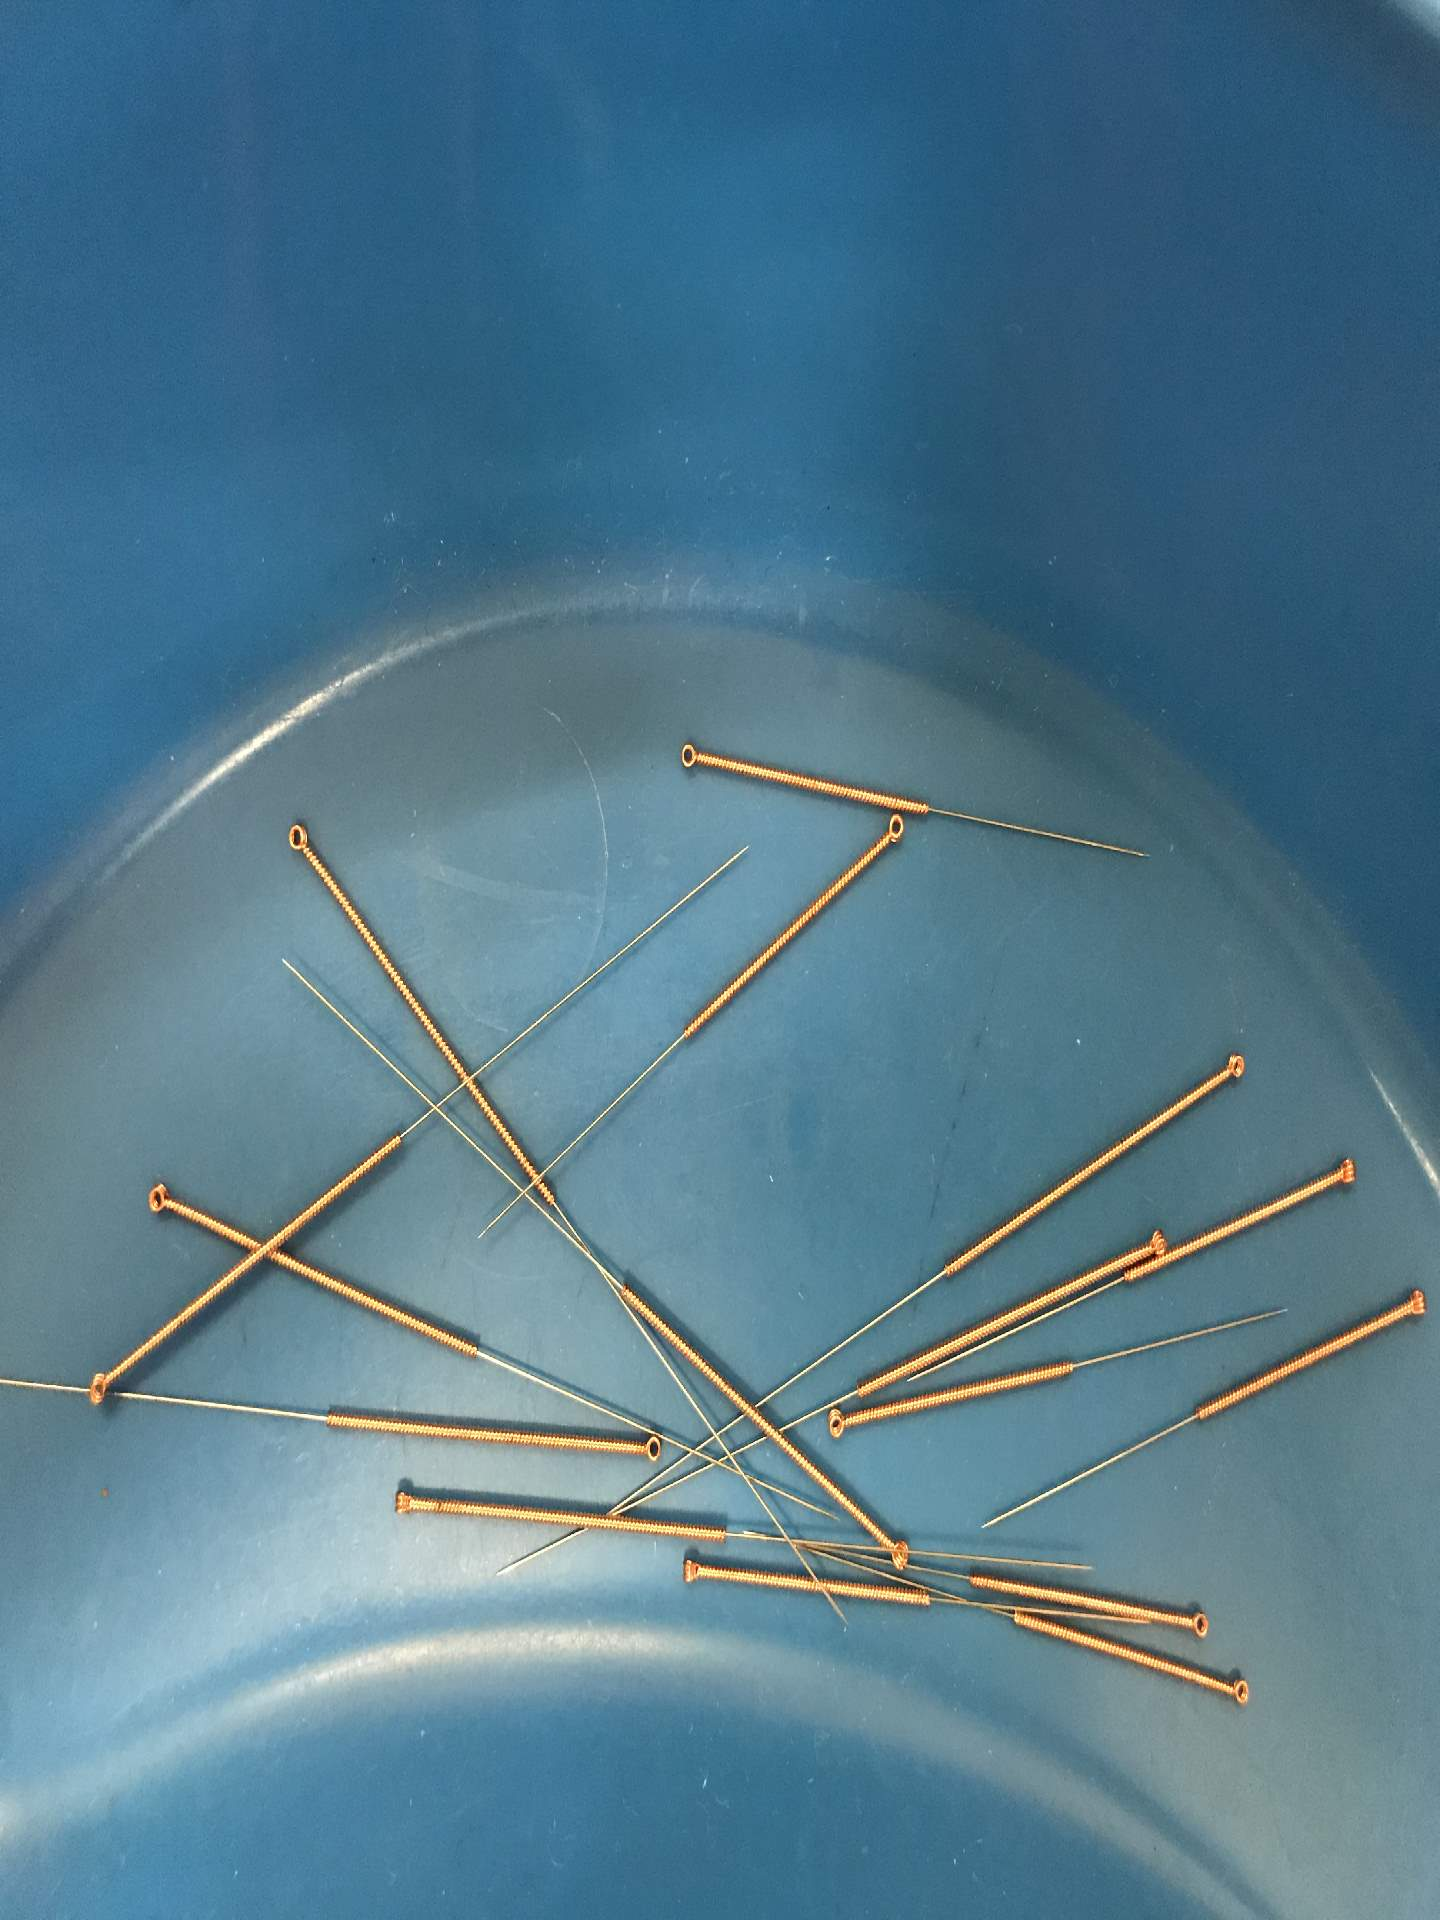needle: (1213, 1039, 1255, 1093), (136, 1173, 183, 1222), (77, 1364, 123, 1414), (275, 815, 318, 865), (667, 733, 709, 780), (1327, 1147, 1367, 1196), (1218, 1666, 1258, 1713), (879, 1533, 920, 1578), (1177, 1599, 1218, 1643), (672, 1548, 711, 1593), (383, 1482, 424, 1522), (1393, 1281, 1432, 1323), (876, 807, 911, 854), (818, 1404, 858, 1445), (632, 1430, 669, 1473), (1133, 1225, 1171, 1259)
